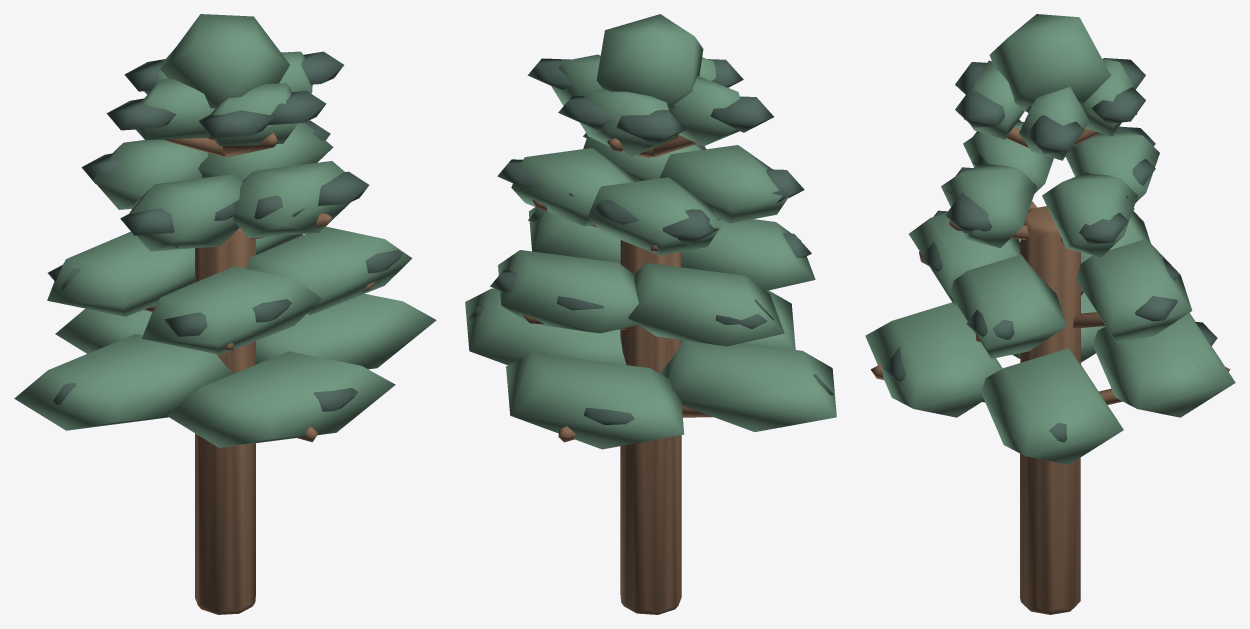
The model's file is org_archaeopteris.glb.
The picture shows the model from 3 angles, left to right: view 1: azimuth 30°, elevation 25°; view 2: azimuth 150°, elevation 25°; view 3: azimuth 270°, elevation 25°; orthographic projection.
Parts seen in each view (by area): view 1: Foliage, Trunk; view 2: Foliage, Trunk; view 3: Foliage, Trunk.
Boxes of the visible parts, x1,y1,x2,y2 form: Foliage: (14, 14, 436, 447); Trunk: (144, 133, 375, 614); Foliage: (465, 14, 836, 449); Trunk: (523, 134, 719, 614); Foliage: (865, 14, 1235, 464); Trunk: (870, 113, 1230, 614).
Bounding box in the file's own units: 1.57 × 2.2 × 1.27.
